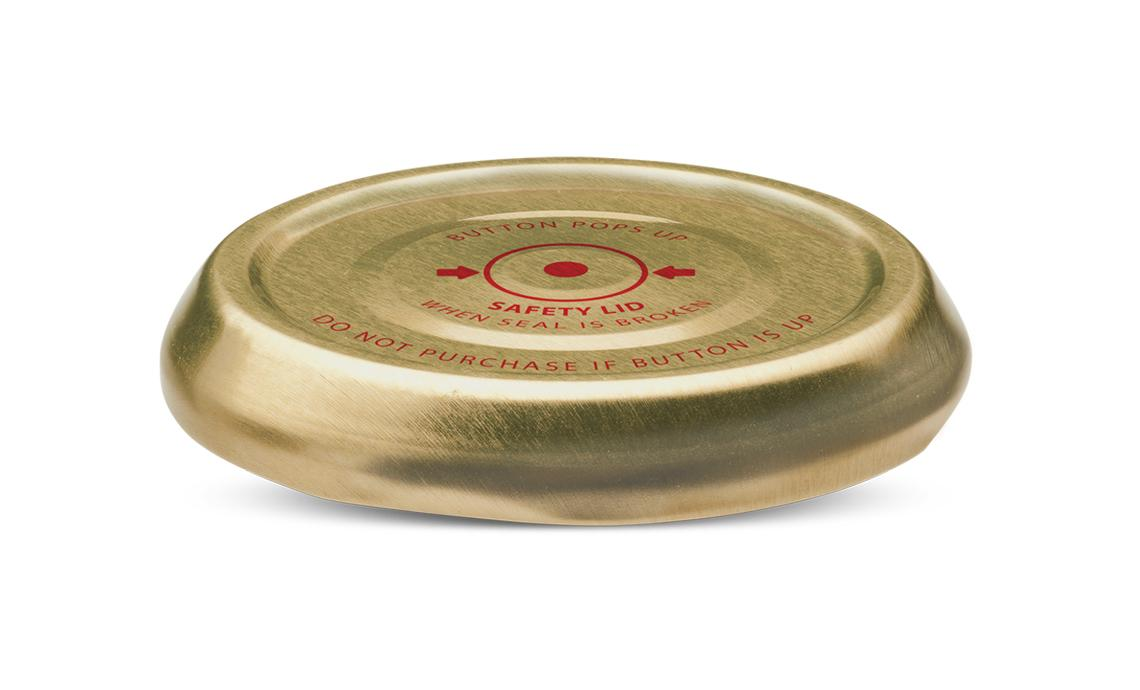metal: (160, 158, 972, 524)
